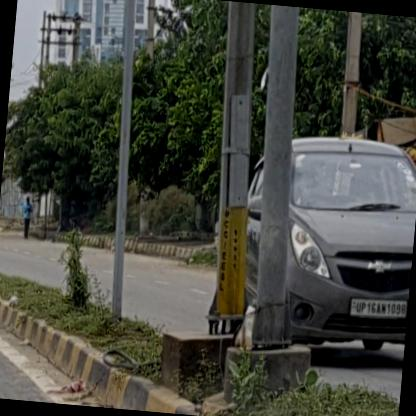car: (234, 130, 415, 369)
